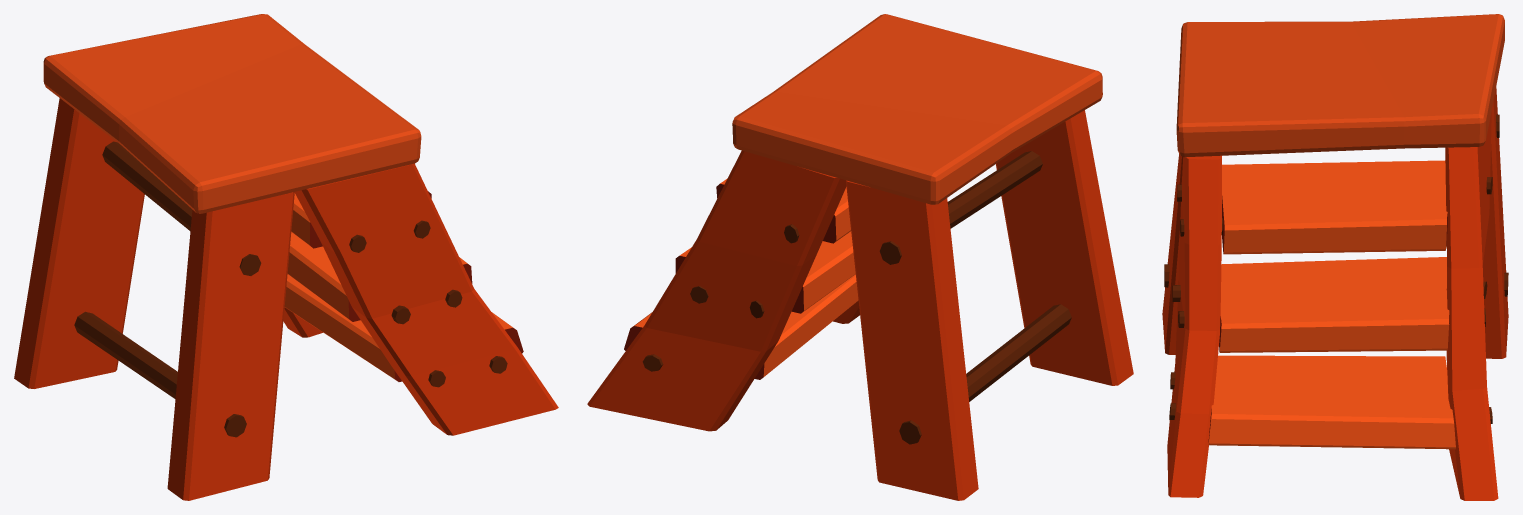
File: Item9.fbx
3 renders of one model, left to right at view 1: azimuth 30°, elevation 25°; view 2: azimuth 150°, elevation 25°; view 3: azimuth 270°, elevation 25°, orthographic.
Parts seen in each view (by area): view 1: Item9; view 2: Item9; view 3: Item9.
Boxes of the visible parts, x1,y1,x2,y2 form: Item9: [14, 14, 558, 500]; Item9: [587, 14, 1133, 500]; Item9: [1162, 14, 1508, 500].
Size of what is drawn, in the model's own units: 42.31 by 33.99 by 33.31.
